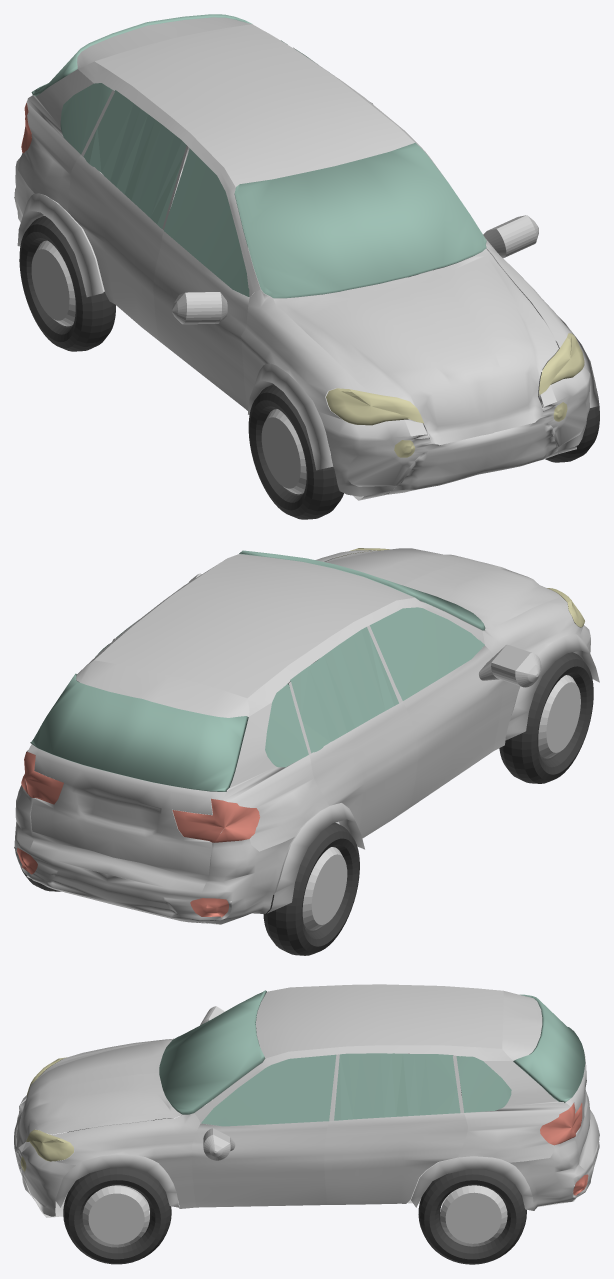
3 views of the same model, one above another, from view 1: azimuth 30°, elevation 25°; view 2: azimuth 150°, elevation 25°; view 3: azimuth 270°, elevation 25° (orthographic). The views are drawn at different scales.
Visible parts, largest first — view 1: Hood, Roof, WindowFront, BumberFront, DoorBackRight, DoorFrontRight, WindowBackRight, FenderFrontRight, WindowFrontRight, TireBackRight, FenderBackRight, TireFrontRight (+16 smaller); view 2: Roof, Trunk, WindowBack, BumperRear, DoorBackRight, DoorFrontRight, Hood, WindowBackRight, FenderBackRight, WindowFrontRight, TireBackRight, TireFrontRight (+12 smaller); view 3: Roof, Hood, DoorFrontLeft, DoorBackLeft, WindowBackLeft, WindowFront, WindowFrontLeft, FenderBackLeft, FenderFrontLeft, TireFrontLeft, TireBackLeft, WindowBack (+13 smaller).
Boxes of the visible parts, <box> form: Hood: <box>273,249,558,445</box>; Roof: <box>95,24,414,186</box>; WindowFront: <box>234,142,486,298</box>; BumberFront: <box>318,365,590,496</box>; DoorBackRight: <box>68,155,163,340</box>; DoorFrontRight: <box>153,231,249,408</box>; WindowBackRight: <box>83,90,186,229</box>; FenderFrontRight: <box>241,289,369,419</box>; WindowFrontRight: <box>163,148,249,296</box>; TireBackRight: <box>19,215,115,351</box>; FenderBackRight: <box>18,69,93,212</box>; TireFrontRight: <box>248,384,343,519</box>; Roof: <box>94,554,414,698</box>; Trunk: <box>27,660,249,875</box>; WindowBack: <box>30,673,248,791</box>; BumperRear: <box>14,783,294,924</box>; DoorBackRight: <box>309,701,418,838</box>; DoorFrontRight: <box>402,645,503,807</box>; Hood: <box>325,548,560,628</box>; WindowBackRight: <box>290,627,398,753</box>; FenderBackRight: <box>223,702,329,851</box>; WindowFrontRight: <box>370,607,484,700</box>; TireBackRight: <box>263,822,359,955</box>; TireFrontRight: <box>499,652,593,783</box>; Roof: <box>255,984,503,1058</box>; Hood: <box>16,1038,182,1152</box>; DoorFrontLeft: <box>191,1121,328,1207</box>; DoorBackLeft: <box>324,1113,467,1204</box>; WindowBackLeft: <box>334,1053,460,1120</box>; WindowFront: <box>159,990,266,1114</box>; WindowFrontLeft: <box>201,1054,336,1126</box>; FenderBackLeft: <box>458,1060,570,1162</box>; FenderFrontLeft: <box>51,1113,200,1208</box>; TireFrontLeft: <box>63,1167,171,1264</box>; TireBackLeft: <box>418,1169,526,1264</box>; WindowBack: <box>513,994,585,1102</box>.
Size of the model in its own units: 14.47 by 26.69 by 10.29.
